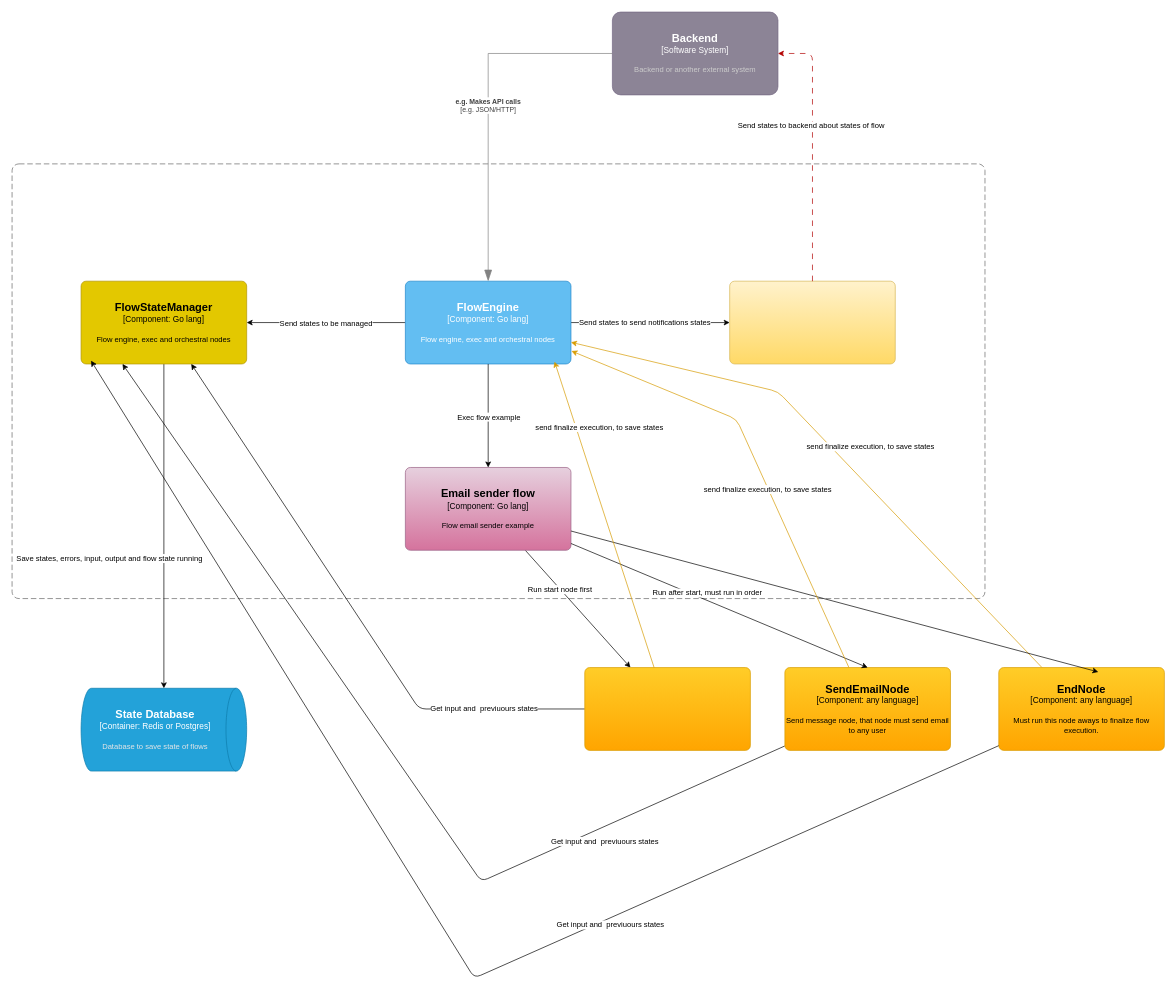
The diagram is 1176 pixels wide and 996 high, and some of its shapes have lost their labels. Each missing label, with the box of its shape:
Container name [Container]: (11, 163, 985, 599)
FlowNotificator [Component: Go lang] Notification about states of flow: (729, 280, 895, 364)
StartNode [Component: any language] Start node must be mandatory: (584, 667, 750, 750)
